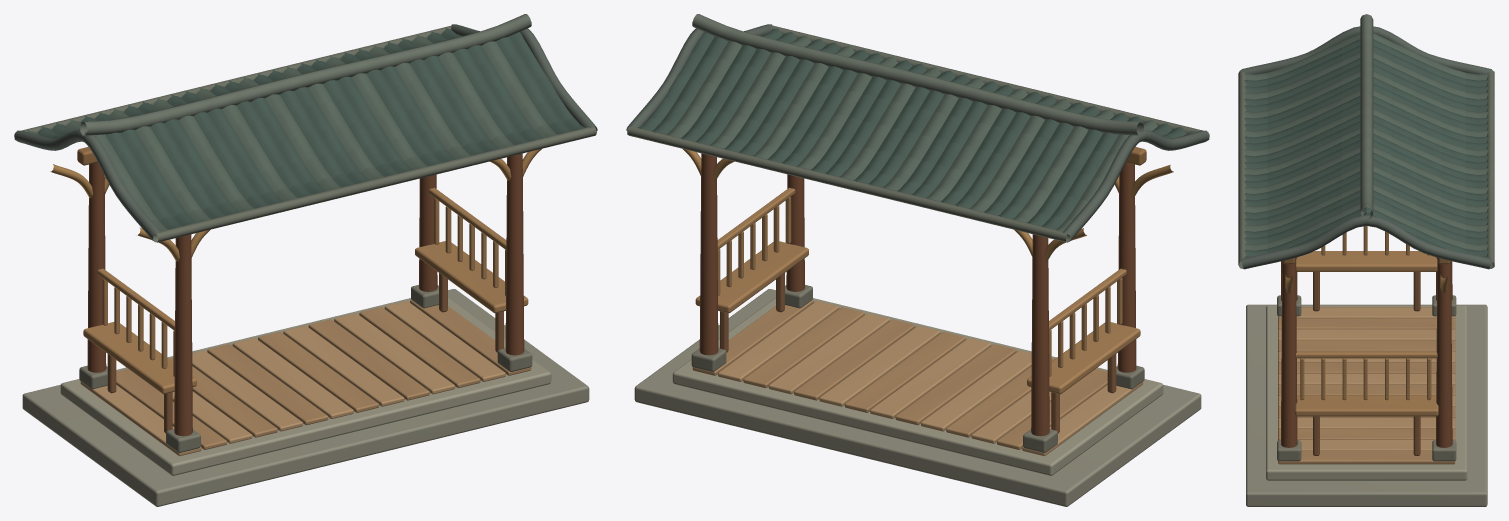
Rendered from farewell-pavilion.glb.
The picture shows the model from 3 angles, left to right: view 1: azimuth 30°, elevation 25°; view 2: azimuth 150°, elevation 25°; view 3: azimuth 270°, elevation 25°; orthographic projection. The views are drawn at different scales.
Parts seen in each view (by area): view 1: farewell-pavilion-stone, farewell-pavilion-wood; view 2: farewell-pavilion-stone, farewell-pavilion-wood; view 3: farewell-pavilion-stone, farewell-pavilion-wood.
Part boxes in pixels (x1=…): farewell-pavilion-stone: x1=14, y1=14, x2=597, y2=506; farewell-pavilion-wood: x1=50, y1=147, x2=541, y2=456; farewell-pavilion-stone: x1=626, y1=14, x2=1209, y2=506; farewell-pavilion-wood: x1=683, y1=147, x2=1173, y2=456; farewell-pavilion-stone: x1=1238, y1=14, x2=1494, y2=506; farewell-pavilion-wood: x1=1278, y1=226, x2=1455, y2=464.
Size of the model in its own units: 4.58 by 3.31 by 2.55.
